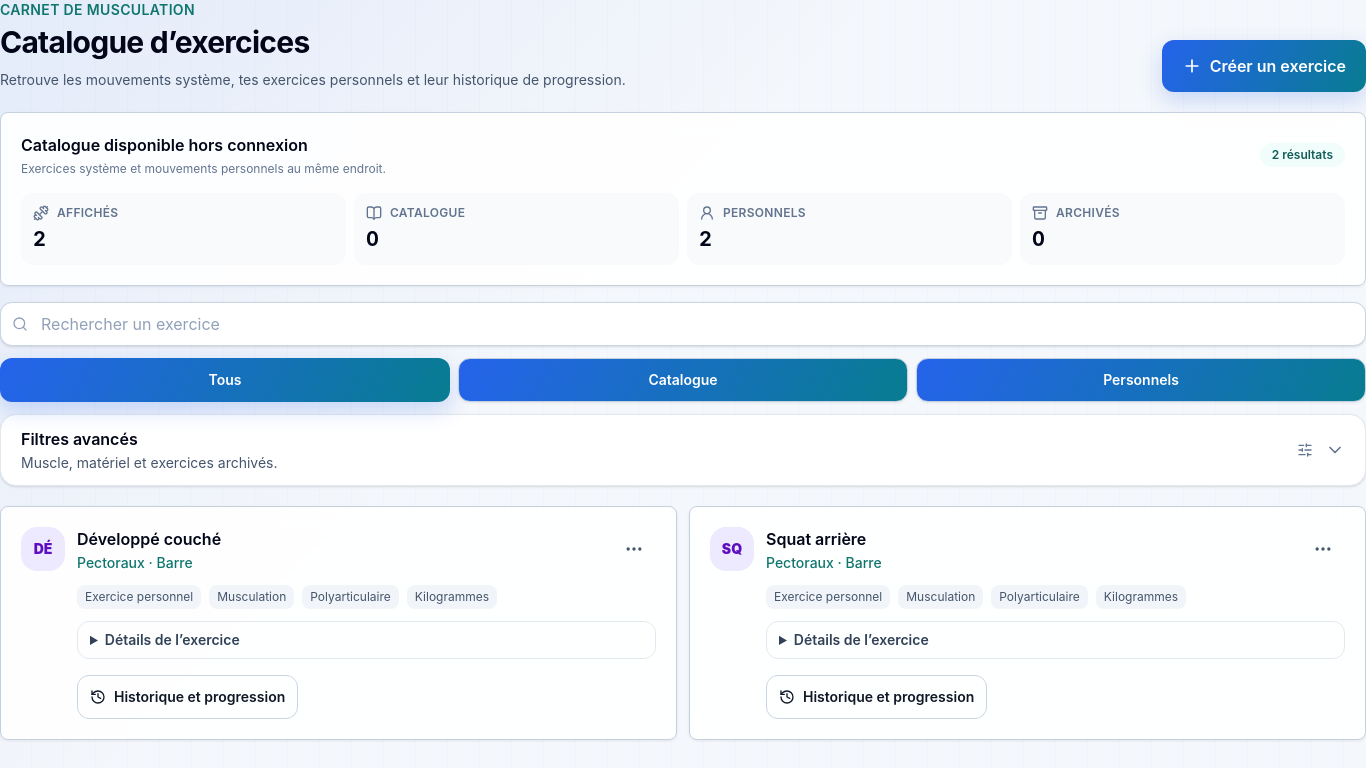
Test: StrengthExercisesPage › garde une erreur locale unique lorsque la duplication échoue
Click the button named "Actions pour Squat arrière" at (1323, 549), box left=1301, top=527, right=1345, bottom=571
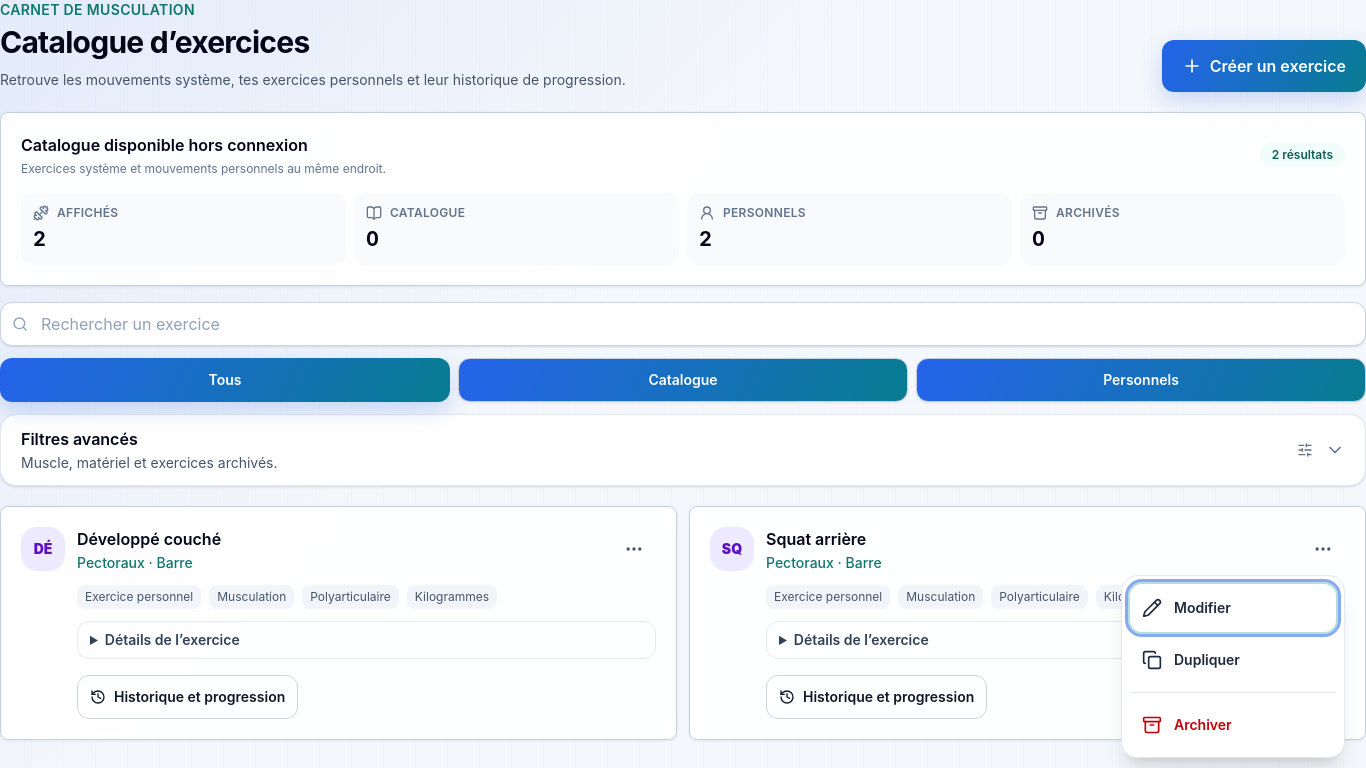
Click the menu item "Dupliquer" at (1233, 660), box left=1130, top=636, right=1336, bottom=684
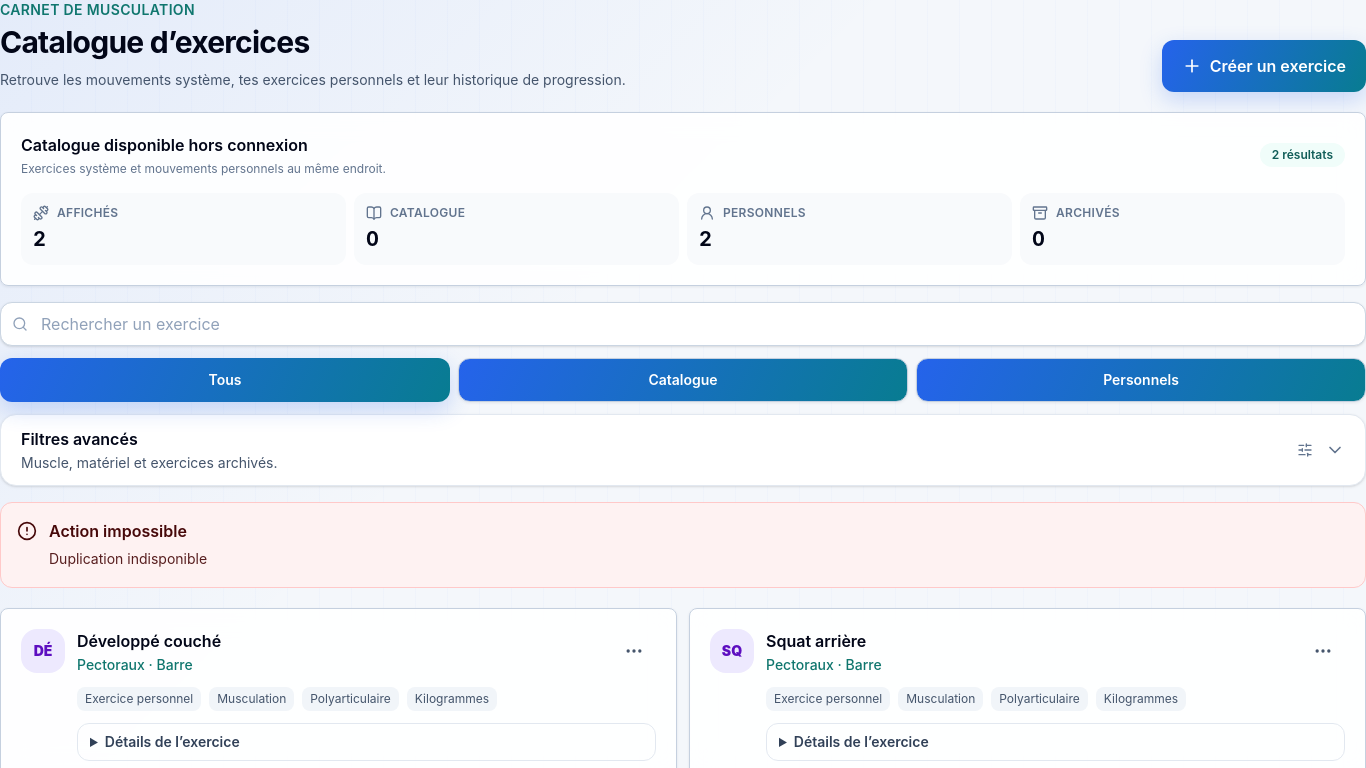
Expected: the text "Duplication indisponible" is shown, left=49, top=547, right=207, bottom=571
Expected: the number of messages is 1, left=0, top=502, right=1365, bottom=588
